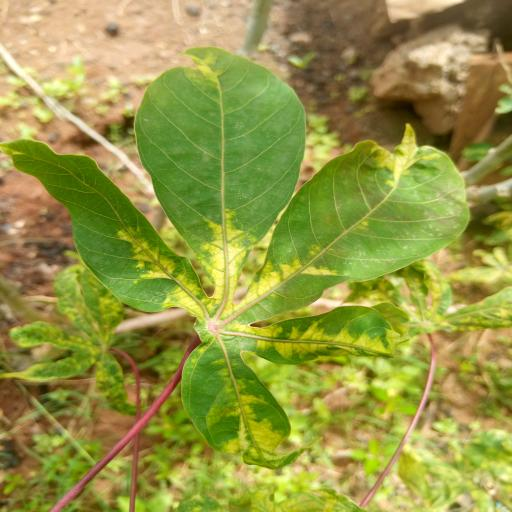Cassava_Mosaic: (5, 44, 473, 474)
